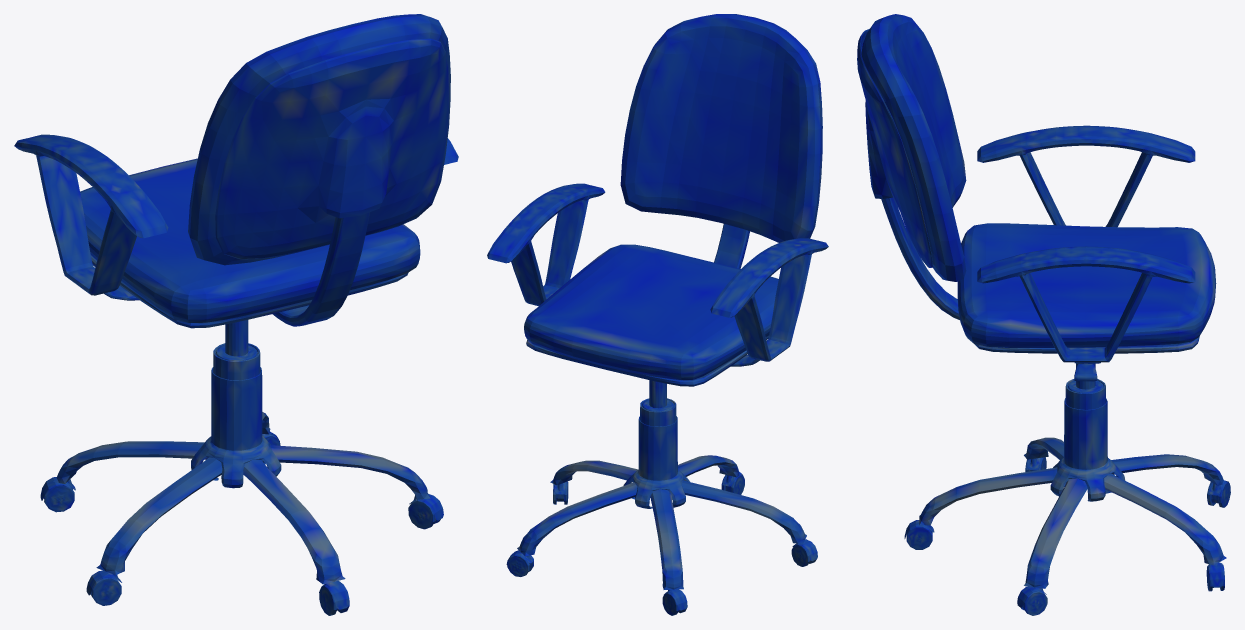
File: chair5_final200.obj
The picture shows the model from 3 angles, left to right: view 1: azimuth 30°, elevation 25°; view 2: azimuth 150°, elevation 25°; view 3: azimuth 270°, elevation 25°; orthographic projection. The views are drawn at different scales.
Bounding box in the file's own units: 0.7977 × 1.33 × 0.8718.
